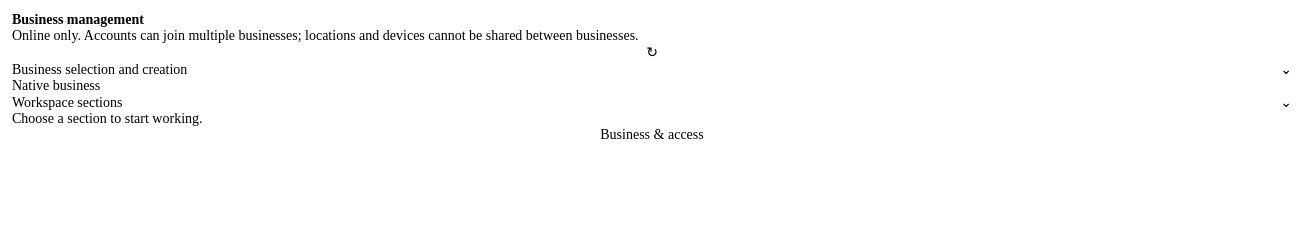
Scenario: automatically opens native membership-scoped management and hides owner and manager actions for viewers
Expected: the heading "Native business" is shown, [12, 78, 100, 93]
Click the button "Business & access".
click(652, 135)  # box [12, 127, 1292, 143]
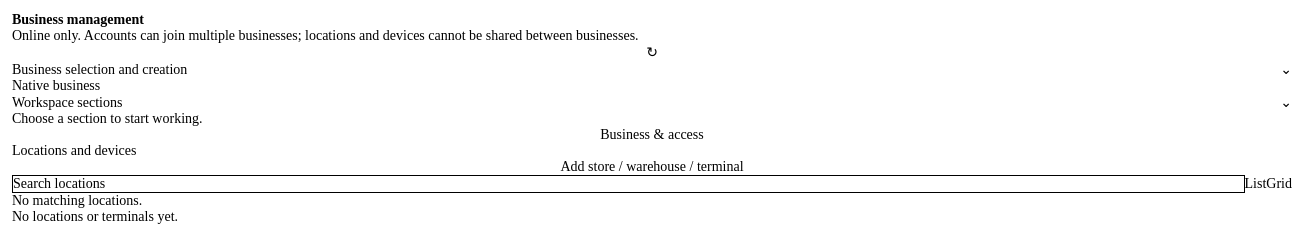
Now the text "No locations or terminals yet." is shown, box [12, 209, 178, 224]
